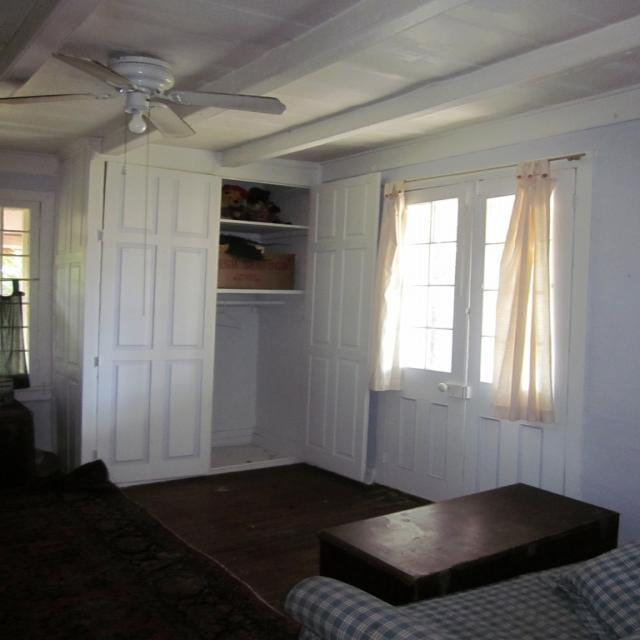bulb_off: (130, 112, 153, 140)
fan_off: (0, 46, 286, 139)
